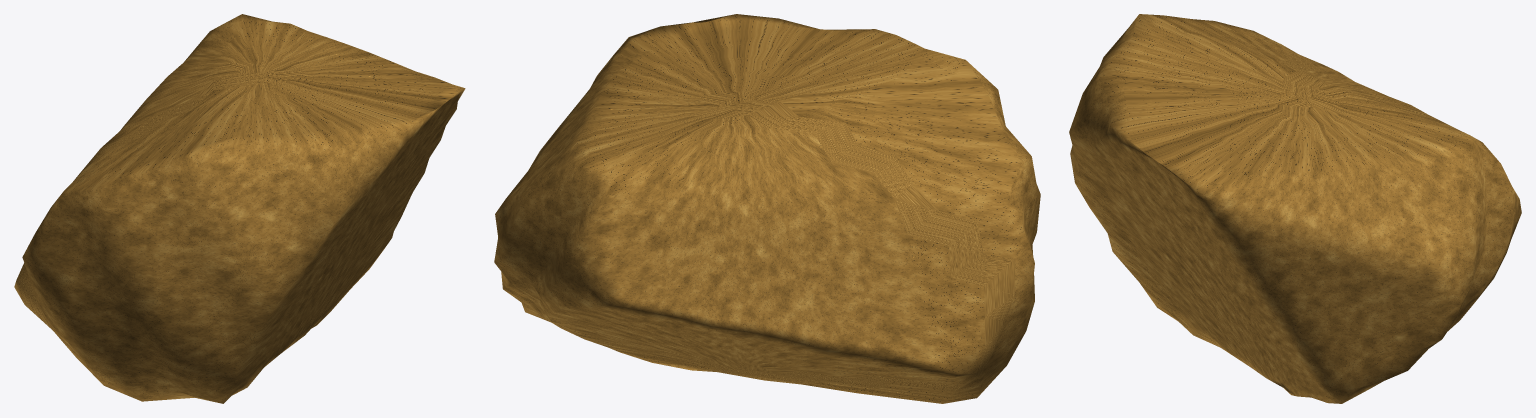
Rendered from obstacle_mid_3.dae.
3 renders of one model, left to right at view 1: azimuth 30°, elevation 25°; view 2: azimuth 150°, elevation 25°; view 3: azimuth 270°, elevation 25°, orthographic. The views are drawn at different scales.
Parts seen in each view (by area): view 1: obstacle_mid_3; view 2: obstacle_mid_3; view 3: obstacle_mid_3.
Boxes of the visible parts, box(x1,y1,x2,y2) form: obstacle_mid_3: box(14, 14, 465, 403); obstacle_mid_3: box(494, 14, 1040, 403); obstacle_mid_3: box(1069, 14, 1521, 403).
Bounding box in the file's own units: 1 × 0.9147 × 0.645.
Materials: 1 (1 with a texture image).
